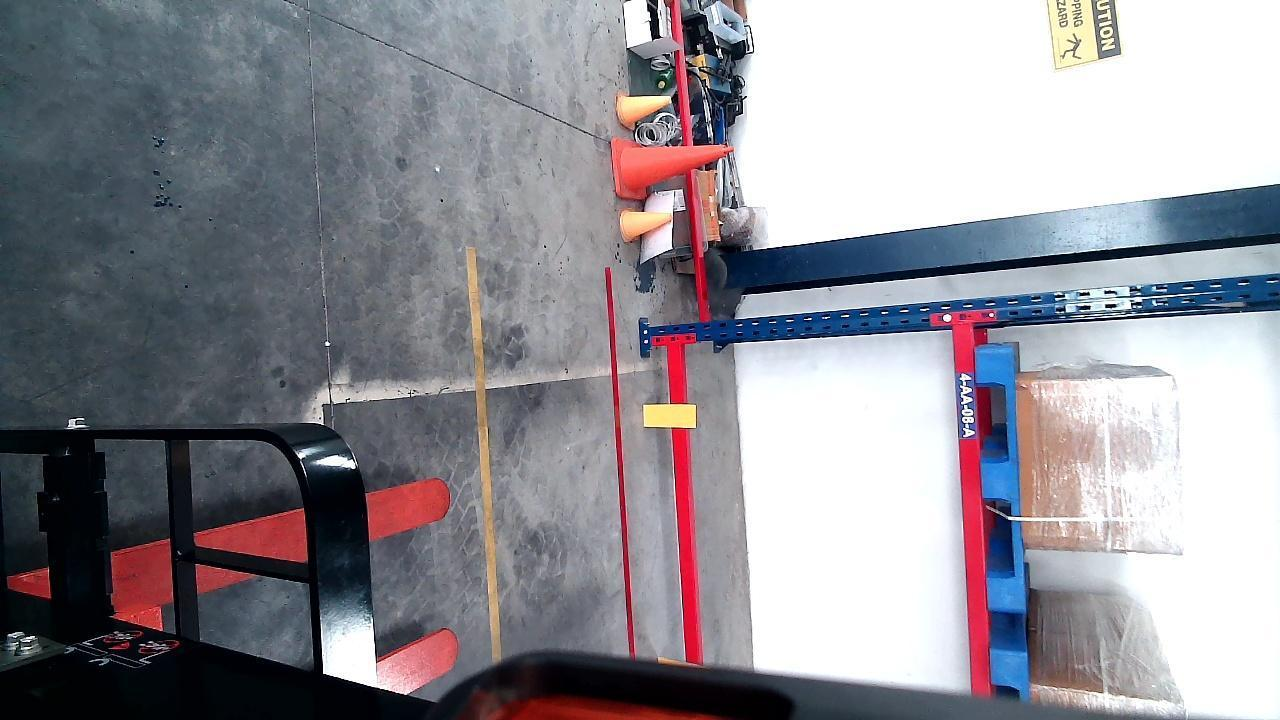h_rack: (956, 319, 988, 698), (668, 341, 701, 665)
orange_strip: (640, 402, 695, 428)
red_line: (598, 264, 643, 657)
small_pallet: (978, 340, 1022, 619)
yellow_line: (460, 242, 506, 671)
